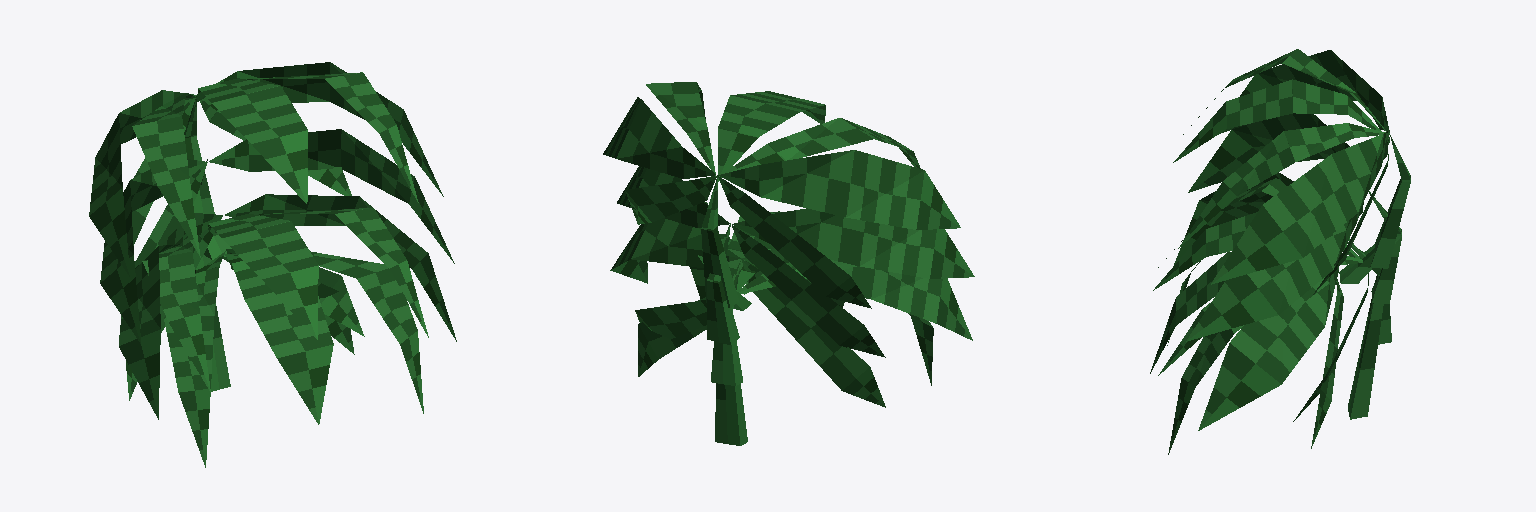
The picture shows the model from 3 angles: view 1: azimuth 30°, elevation 25°; view 2: azimuth 150°, elevation 25°; view 3: azimuth 270°, elevation 25°; orthographic projection.
Visible parts, largest first — view 1: Inst3D_RefRep.284; view 2: Inst3D_RefRep.284; view 3: Inst3D_RefRep.284.
Boxes of the visible parts, x1=… form: Inst3D_RefRep.284: x1=89, y1=62, x2=456, y2=467; Inst3D_RefRep.284: x1=603, y1=82, x2=974, y2=445; Inst3D_RefRep.284: x1=1150, y1=49, x2=1410, y2=454.
Bounding box in the file's own units: 2.78 × 2.63 × 1.96.
1 materials, 1 textured.